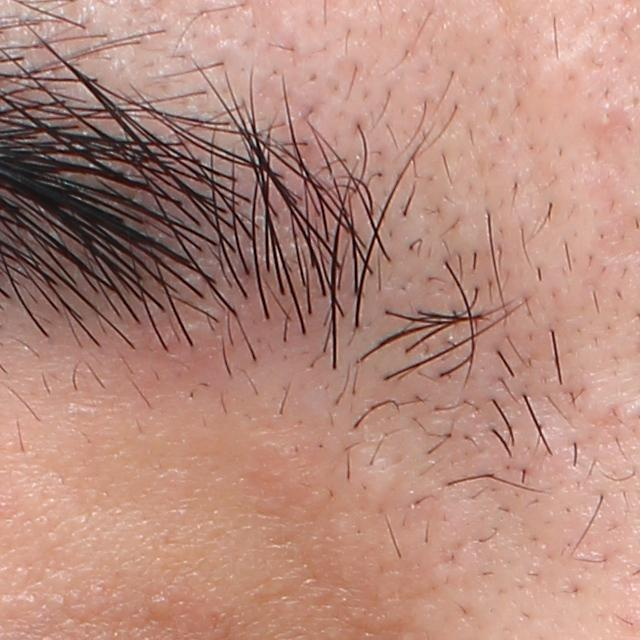comedo: (146, 590, 172, 619)
hypertrophic_scar: (339, 445, 401, 510)
